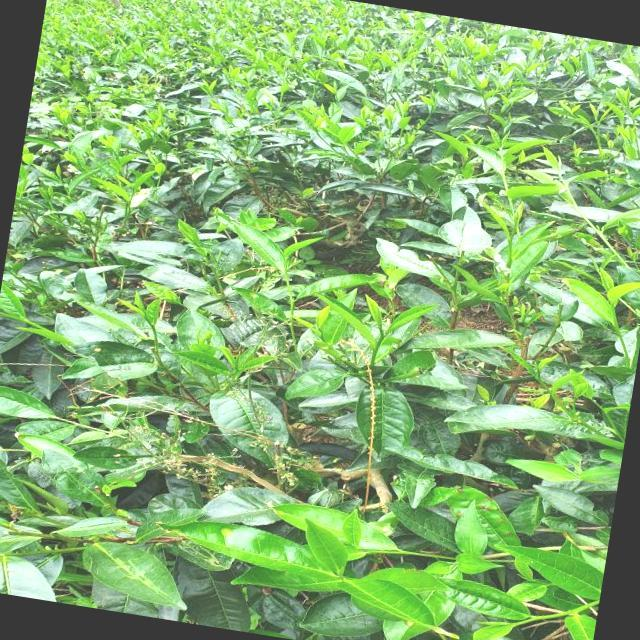Stem: (509, 242, 512, 246), (152, 325, 155, 329), (615, 324, 618, 328), (381, 336, 384, 339)
